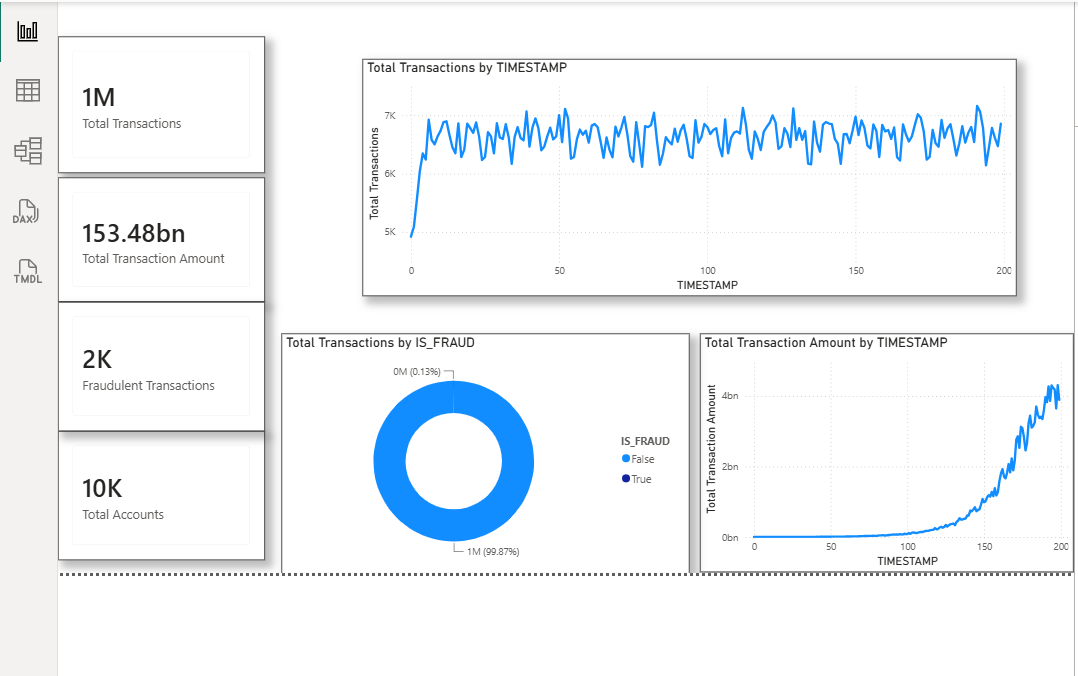

This screenshot's page, from the dashboard's own definition file:
{"tool":"powerbi","page":{"name":"Page 1","canvas":[1280,720],"ordinal":0},"visuals":[{"type":"cardVisual","fields":{"Data":["transactions.Total Transactions"]},"box":[0,43.5,260.8,172],"z":0},{"type":"cardVisual","fields":{"Data":["transactions.Total Transaction Amount"]},"box":[0,221.1,260.8,156.9],"z":1},{"type":"cardVisual","fields":{"Data":["accounts.Total Accounts"]},"box":[0,540.5,260.8,162.5],"z":2},{"type":"cardVisual","fields":{"Data":["transactions.Fraudulent Transactions"]},"box":[0,378,260.8,162.5],"z":3},{"type":"lineChart","fields":{"Y":["transactions.Total Transactions"],"Category":["transactions.TIMESTAMP"]},"box":[383.6,71.8,823.9,298.6],"z":4},{"type":"lineChart","fields":{"Category":["transactions.TIMESTAMP"],"Y":["transactions.Total Transaction Amount"]},"box":[808.8,417.6,470.6,300.5],"z":5},{"type":"donutChart","fields":{"Category":["transactions.IS_FRAUD"],"Y":["transactions.Total Transactions"]},"box":[281.6,417.6,514,302.4],"z":6}]}

Visuals, with their boxes in screenshot pixels (x1, y1, x2, y2):
cardVisual - transactions.Total Transactions: {"left": 53, "top": 32, "right": 262, "bottom": 170}
cardVisual - transactions.Total Transaction Amount: {"left": 53, "top": 174, "right": 262, "bottom": 300}
cardVisual - accounts.Total Accounts: {"left": 53, "top": 430, "right": 262, "bottom": 560}
cardVisual - transactions.Fraudulent Transactions: {"left": 53, "top": 300, "right": 262, "bottom": 430}
lineChart - transactions.Total Transactions x transactions.TIMESTAMP: {"left": 361, "top": 55, "right": 1021, "bottom": 294}
lineChart - transactions.TIMESTAMP x transactions.Total Transaction Amount: {"left": 701, "top": 332, "right": 1077, "bottom": 572}
donutChart - transactions.IS_FRAUD x transactions.Total Transactions: {"left": 279, "top": 332, "right": 691, "bottom": 574}
